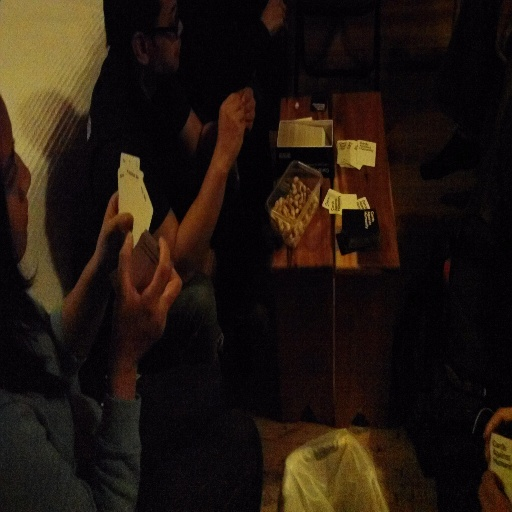hand: (116, 229, 183, 360), (94, 188, 134, 291), (208, 79, 256, 155), (483, 407, 511, 461), (477, 468, 511, 511), (237, 87, 256, 128)
